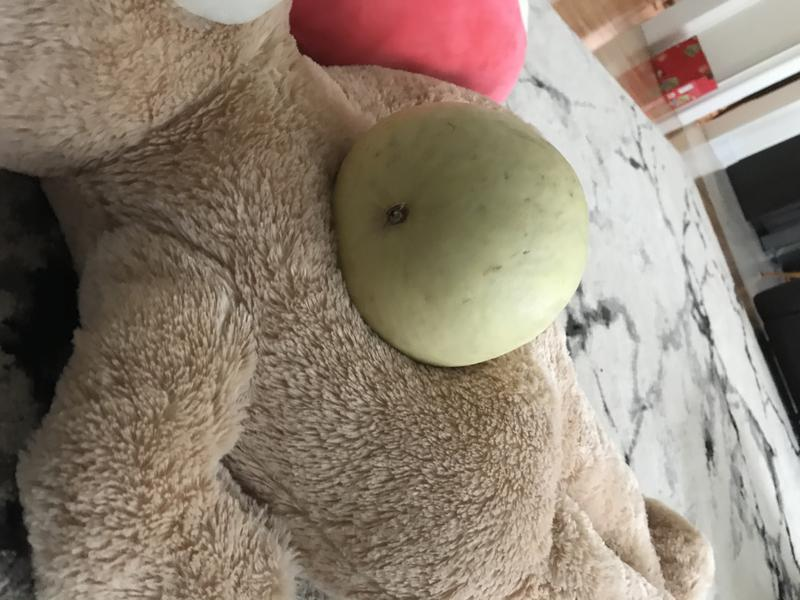honeydew: (331, 96, 595, 379)
